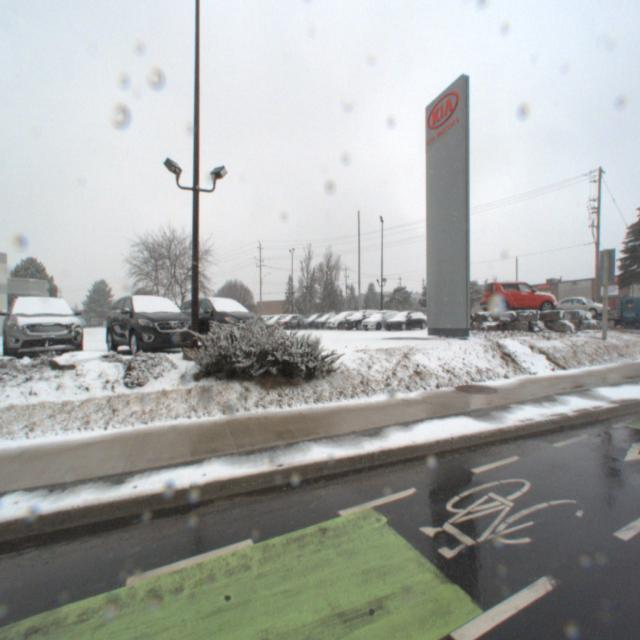Car: (98, 280, 205, 358), (169, 287, 277, 352), (1, 281, 88, 360), (474, 284, 560, 320), (212, 308, 278, 337), (380, 309, 430, 333), (339, 307, 383, 332), (358, 308, 403, 332), (324, 308, 364, 330), (308, 309, 349, 330), (294, 309, 334, 329), (283, 309, 321, 329), (273, 311, 309, 328)
